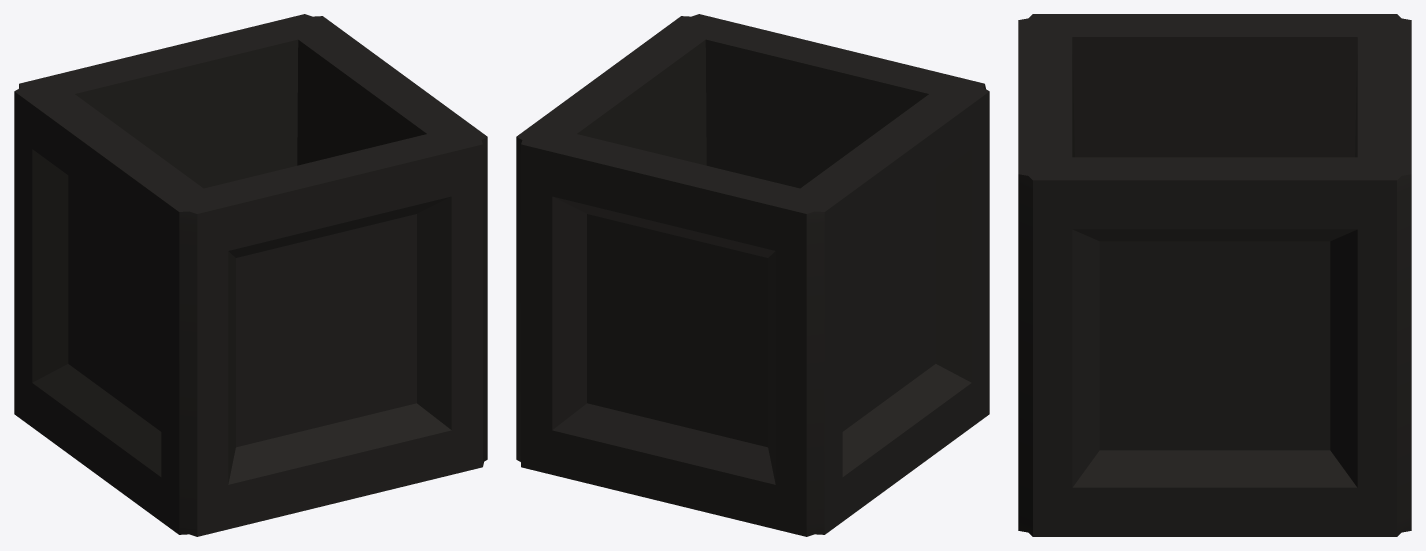
The model's file is crate.fbx.
3 views of the same model, side by side, from view 1: azimuth 30°, elevation 25°; view 2: azimuth 150°, elevation 25°; view 3: azimuth 270°, elevation 25° (orthographic). The views are drawn at different scales.
Parts seen in each view (by area): view 1: crate; view 2: crate; view 3: crate.
Boxes of the visible parts, <box> form: crate: <box>14,14,487,536</box>; crate: <box>516,14,989,536</box>; crate: <box>1018,14,1411,536</box>.
Bounding box in the file's own units: 79.79 × 79.79 × 79.79.
